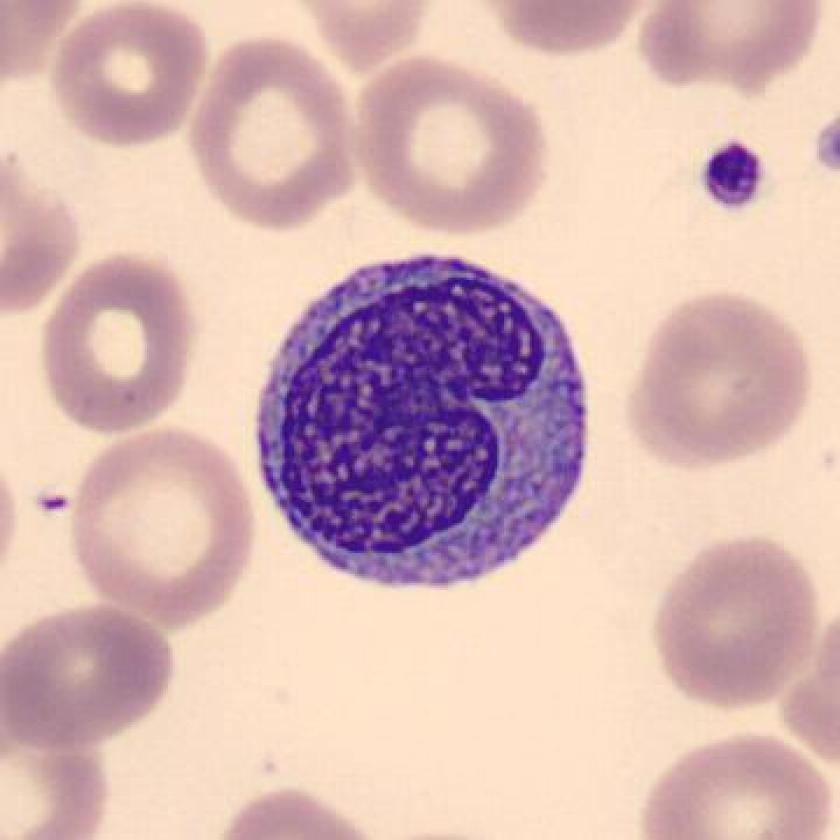monocyte: (237, 230, 622, 614)
